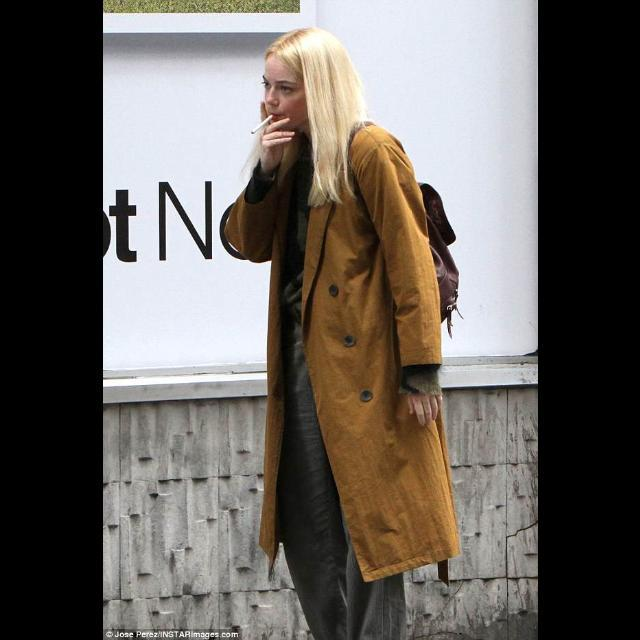rokok: (250, 112, 274, 136)
